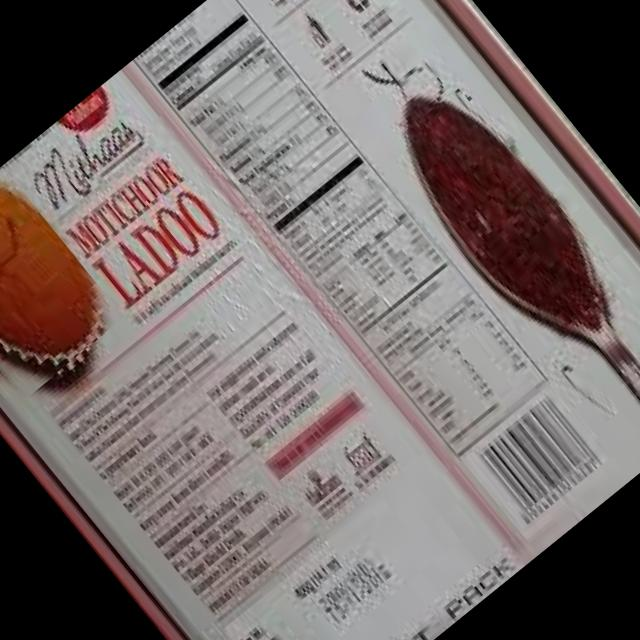Organic: (385, 88, 616, 341), (0, 166, 125, 408)
